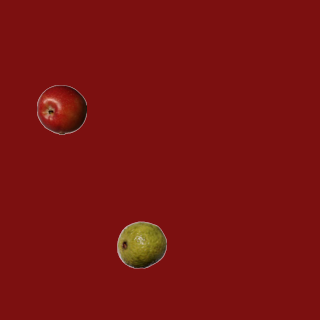Apple Braeburn: (36, 84, 86, 134)
Guava: (116, 219, 166, 269)
